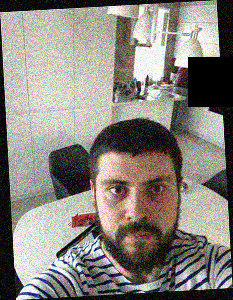without_mask: (99, 167, 180, 275)
